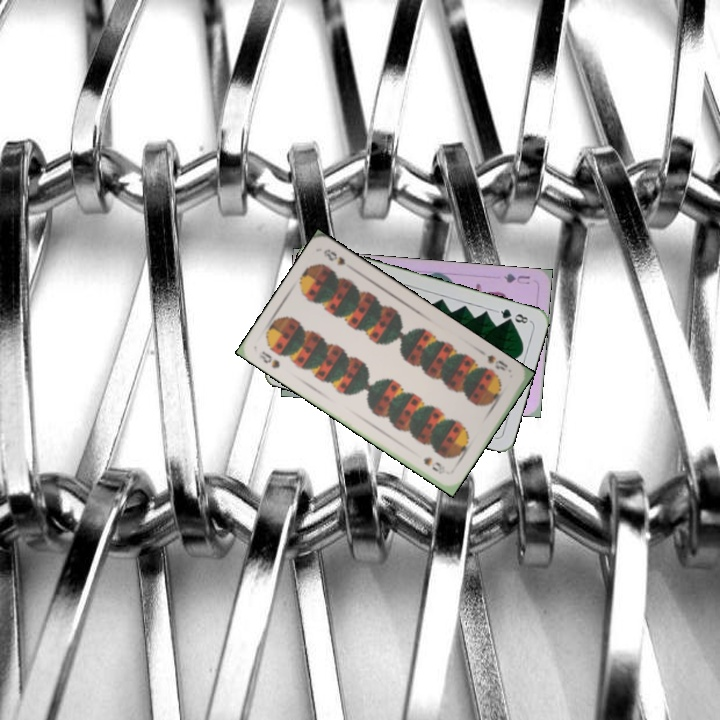G8: (493, 305, 533, 326)
GU: (500, 270, 532, 287)
S8: (255, 347, 283, 371), (483, 351, 510, 374)
